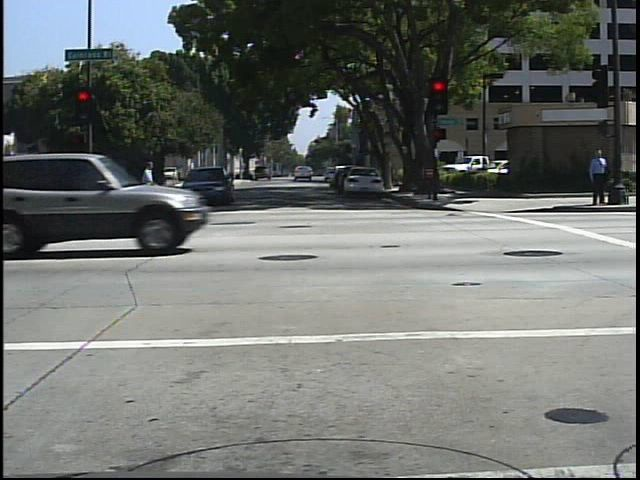person: (587, 143, 609, 209), (133, 155, 164, 197)
